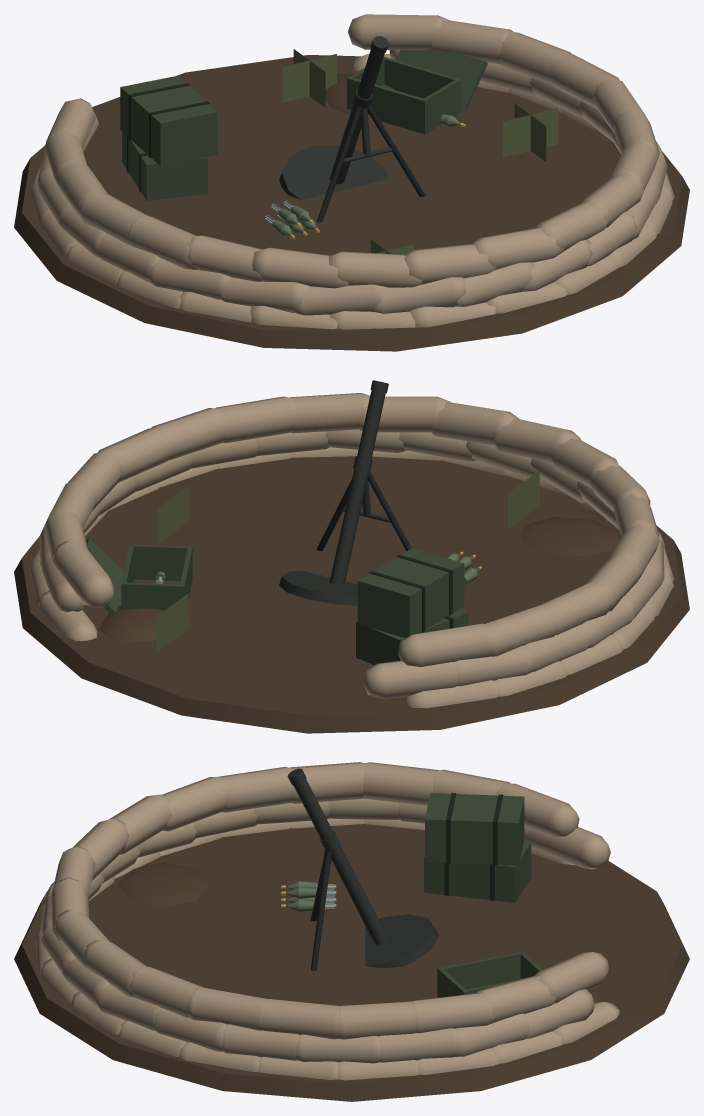
File: mortar-pit.glb
3 views of the same model, one above another, from view 1: azimuth 30°, elevation 25°; view 2: azimuth 150°, elevation 25°; view 3: azimuth 270°, elevation 25° (orthographic).
Visible parts, largest first — view 1: Mesh_DirtFloor, Mesh_AmmoCrate3, Mesh_Baseplate, Mesh_AmmoCrate2, Mesh_Sandbag_L2_A-140, Mesh_Sandbag_L2_A40, Mesh_Sandbag_L2_A10, Mesh_Sandbag_L2_A25, Mesh_Sandbag_L2_A-5, Mesh_Sandbag_L2_A-125, Mesh_Sandbag_L2_A55, Mesh_Grass3 (+46 smaller); view 2: Mesh_DirtFloor, Mesh_AmmoCrate3, Mesh_DirtMound2, Mesh_Sandbag_L2_A130, Mesh_MortarTube, Mesh_Sandbag_L1_A137.5, Mesh_Sandbag_L2_A-50, Mesh_Sandbag_L2_A-35, Mesh_Sandbag_L2_A-140, Mesh_Sandbag_L2_A-5, Mesh_Sandbag_L2_A115, Mesh_Sandbag_L2_A10 (+43 smaller); view 3: Mesh_DirtFloor, Mesh_AmmoCrate3, Mesh_AmmoCrate2, Mesh_DirtMound2, Mesh_Baseplate, Mesh_Sandbag_L2_A100, Mesh_Sandbag_L2_A-95, Mesh_Sandbag_L2_A-110, Mesh_MortarTube, Mesh_Sandbag_L2_A-80, Mesh_Sandbag_L2_A-65, Mesh_Sandbag_L2_A70 (+40 smaller).
Part boxes in pixels (bbox=[...]): Mesh_DirtFloor: bbox=[14, 55, 689, 351]; Mesh_AmmoCrate3: bbox=[120, 75, 217, 166]; Mesh_Baseplate: bbox=[279, 145, 388, 199]; Mesh_AmmoCrate2: bbox=[122, 132, 207, 200]; Mesh_Sandbag_L2_A-140: bbox=[347, 14, 449, 50]; Mesh_Sandbag_L2_A40: bbox=[252, 247, 348, 288]; Mesh_Sandbag_L2_A10: bbox=[404, 244, 496, 284]; Mesh_Sandbag_L2_A25: bbox=[328, 251, 422, 287]; Mesh_Sandbag_L2_A-5: bbox=[471, 228, 564, 269]; Mesh_Sandbag_L2_A-125: bbox=[429, 20, 513, 63]; Mesh_Sandbag_L2_A55: bbox=[187, 235, 262, 281]; Mesh_Grass3: bbox=[503, 103, 557, 161]; Mesh_DirtFloor: bbox=[14, 456, 689, 733]; Mesh_AmmoCrate3: bbox=[357, 548, 464, 637]; Mesh_DirtMound2: bbox=[521, 517, 619, 556]; Mesh_Sandbag_L2_A130: bbox=[398, 623, 491, 666]; Mesh_MortarTube: bbox=[329, 390, 385, 584]; Mesh_Sandbag_L1_A137.5: bbox=[363, 660, 457, 699]; Mesh_Sandbag_L2_A-50: bbox=[215, 396, 296, 443]; Mesh_Sandbag_L2_A-35: bbox=[289, 393, 369, 433]; Mesh_Sandbag_L2_A-140: bbox=[53, 541, 114, 608]; Mesh_Sandbag_L2_A-5: bbox=[431, 402, 519, 445]; Mesh_Sandbag_L2_A115: bbox=[485, 604, 557, 656]; Mesh_Sandbag_L2_A10: bbox=[492, 418, 580, 462]; Mesh_DirtFloor: bbox=[14, 824, 689, 1101]; Mesh_AmmoCrate3: bbox=[425, 793, 524, 865]; Mesh_AmmoCrate2: bbox=[424, 841, 531, 902]; Mesh_DirtMound2: bbox=[118, 862, 208, 907]; Mesh_Baseplate: bbox=[365, 914, 439, 968]; Mesh_Sandbag_L2_A100: bbox=[363, 762, 438, 805]; Mesh_Sandbag_L2_A-95: bbox=[338, 1001, 416, 1039]; Mesh_Sandbag_L2_A-110: bbox=[410, 993, 494, 1033]; Mesh_MortarTube: bbox=[293, 779, 388, 944]; Mesh_Sandbag_L2_A-80: bbox=[262, 999, 339, 1039]; Mesh_Sandbag_L2_A-65: bbox=[186, 987, 267, 1030]; Mesh_Sandbag_L2_A70: bbox=[218, 767, 294, 812].
Size of the model in its own units: 4.3 by 1.4 by 4.3.
